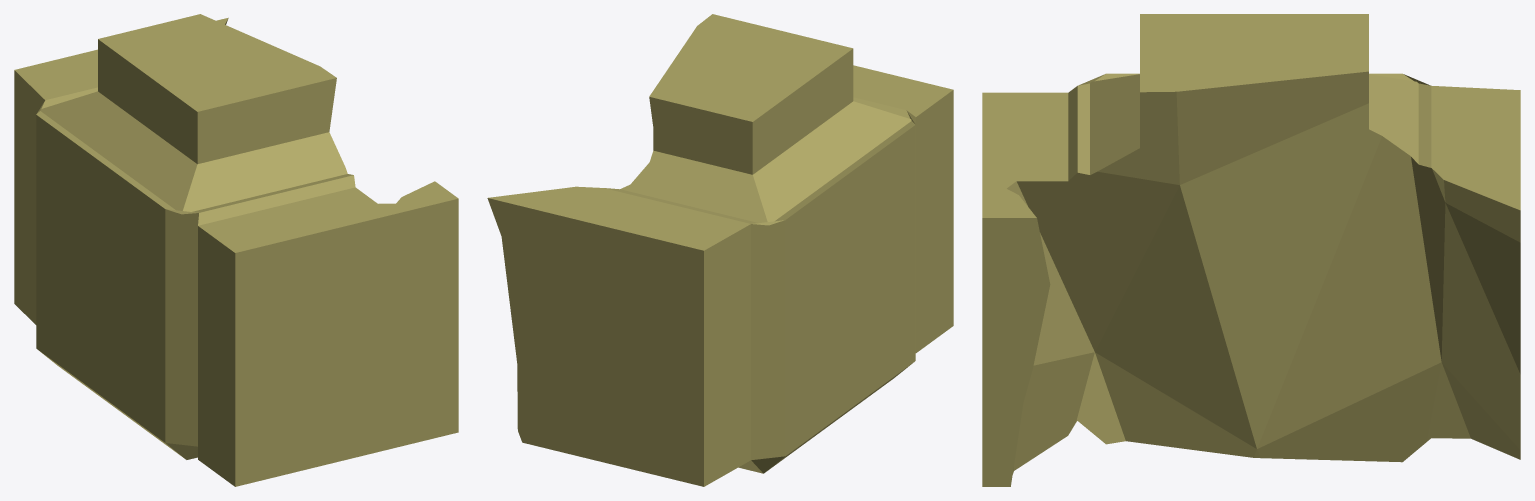
Rendered from Destroyed_box-col3.glb.
The picture shows the model from 3 angles, left to right: view 1: azimuth 30°, elevation 25°; view 2: azimuth 150°, elevation 25°; view 3: azimuth 270°, elevation 25°; orthographic projection. The views are drawn at different scales.
Visible parts, largest first — view 1: Destroyed_box-col3; view 2: Destroyed_box-col3; view 3: Destroyed_box-col3.
Part boxes in pixels (bbox=[...]): Destroyed_box-col3: bbox=[14, 14, 458, 486]; Destroyed_box-col3: bbox=[487, 14, 953, 486]; Destroyed_box-col3: bbox=[982, 14, 1520, 486].
Size of the model in its own units: 1.83 by 2.38 by 3.04.
